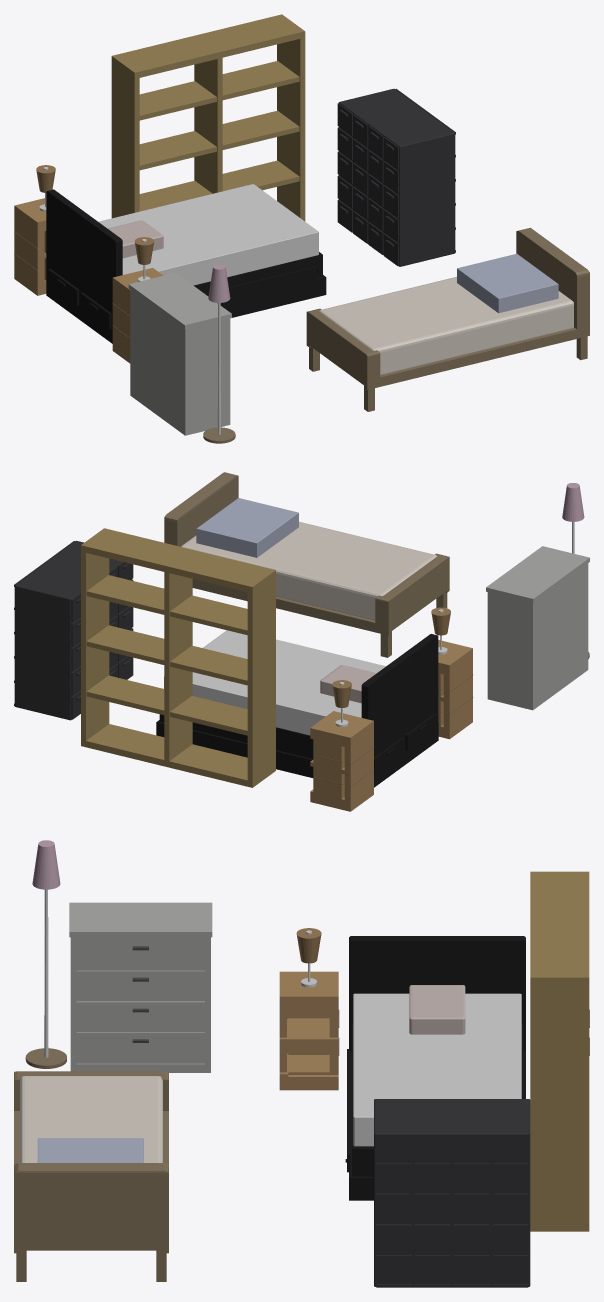
The model's file is agent_scene.glb.
3 views of the same model, one above another, from view 1: azimuth 30°, elevation 25°; view 2: azimuth 150°, elevation 25°; view 3: azimuth 270°, elevation 25° (orthographic). The views are drawn at different scales.
Parts seen in each view (by area): view 1: b2_mattress, b1_mattress, cab_body, mr_back, b1_headboard, bs_top, bs_sideW, bs_sideE, b2_pillow, bs_shelf2, bs_shelf1, b2_hb (+16 smaller); view 2: b2_mattress, mr_back, cab_body, b1_mattress, b1_headboard, bs_sideW, bs_top, bs_sideE, bs_bot, bs_div, b2_pillow, bs_shelf2 (+21 smaller); view 3: cab_body, b1_mattress, bs_sideE, b2_hb, b1_headboard, b2_mattress, bs_top, mr_cap, mr_drw0, mr_drw3, mr_drw1, mr_drw2 (+28 smaller).
Part boxes in pixels (x1,y1,x2,y2): b2_mattress: (319,276,573,374); b1_mattress: (98,184,318,285); cab_body: (338,88,455,266); mr_back: (130,290,225,435); b1_headboard: (46,189,122,341); bs_top: (111,14,304,78); bs_sideW: (111,55,139,218); bs_sideE: (277,14,305,221); b2_pillow: (457,253,558,313); bs_shelf2: (139,61,299,120); bs_shelf1: (139,110,299,170); b2_hb: (516,227,589,336); b2_mattress: (181,521,436,620); mr_back: (492,563,588,710); cab_body: (14,540,132,720); b1_mattress: (164,630,385,735); b1_headboard: (361,634,438,785); bs_sideW: (247,569,275,787); bs_top: (81,528,275,593); bs_sideE: (81,528,109,747); bs_bot: (82,724,275,786); bs_div: (164,572,192,761); b2_pillow: (196,498,298,557); bs_shelf2: (86,575,247,635); cab_body: (374,1099,530,1286); b1_mattress: (353,993,521,1146); bs_sideE: (530,974,589,1231); b2_hb: (14,1163,168,1250); b1_headboard: (349,936,525,1051); b2_mattress: (20,1076,162,1162); bs_top: (530,871,589,985); mr_cap: (69,902,212,937); mr_drw0: (76,1035,204,1063); mr_drw3: (76,942,204,970); mr_drw1: (76,1005,204,1032); mr_drw2: (76,974,204,1001).
Bounding box in the file's own units: 3.91 × 1.9 × 3.9.
